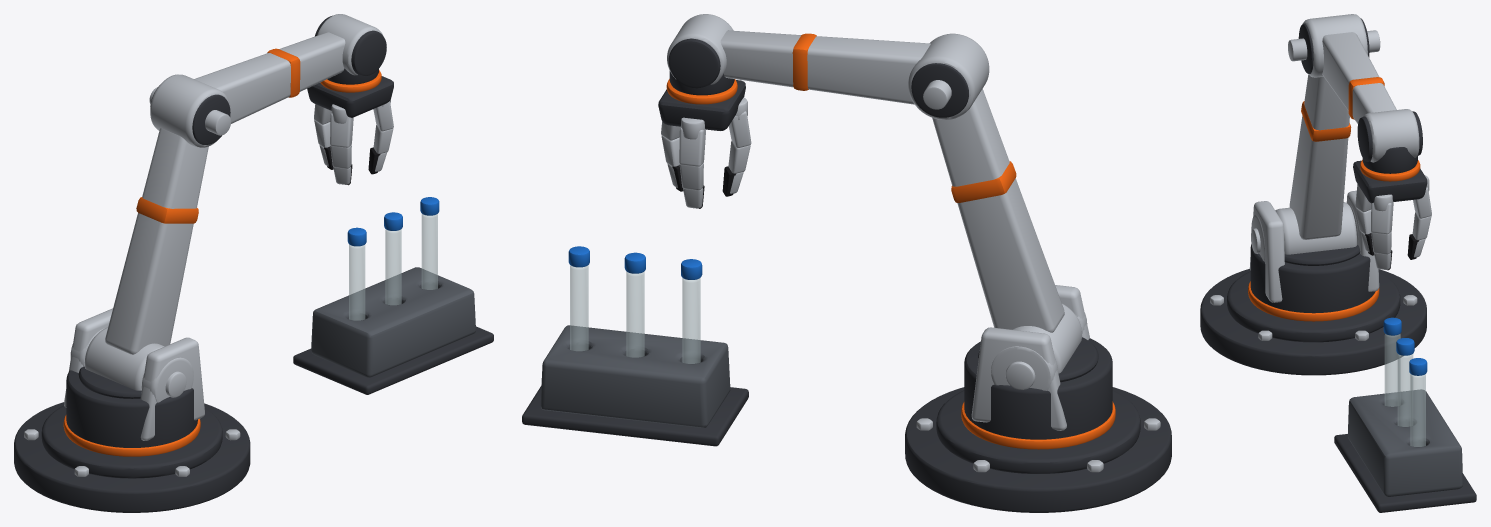
File: robot-arm.glb
3 views of the same model, side by side, from view 1: azimuth 30°, elevation 25°; view 2: azimuth 150°, elevation 25°; view 3: azimuth 270°, elevation 25° (orthographic). The views are drawn at different scales.
Visible parts, largest first — view 1: Arm_Upper_Link, Rack_Block, Waist_Turret, Base_Plate, Arm_Fore_Link, Shoulder_Yoke, Rack_Base, Gripper_Palm, Waist_Accent, Gripper_Finger_C, Wrist_Housing, TestTube_2 (+10 smaller); view 2: Arm_Upper_Link, Rack_Block, Waist_Turret, Base_Plate, Arm_Fore_Link, Shoulder_Yoke, Rack_Base, Gripper_Palm, Wrist_Housing, Elbow_Housing, Waist_Accent, Gripper_Finger_A (+9 smaller); view 3: Waist_Turret, Arm_Upper_Link, Rack_Block, Base_Plate, Arm_Fore_Link, Shoulder_Yoke, Rack_Base, Gripper_Palm, Waist_Accent, Gripper_Finger_B, TestTube_1, TestTube_3 (+11 smaller).
Boxes of the visible parts, x1=… form: Arm_Upper_Link: x1=84, y1=74, x2=230, y2=390; Rack_Block: x1=311, y1=267, x2=475, y2=377; Waist_Turret: x1=41, y1=366, x2=222, y2=478; Base_Plate: x1=14, y1=402, x2=250, y2=512; Arm_Fore_Link: x1=194, y1=14, x2=383, y2=123; Shoulder_Yoke: x1=64, y1=308, x2=204, y2=440; Rack_Base: x1=293, y1=326, x2=493, y2=394; Gripper_Palm: x1=307, y1=76, x2=393, y2=117; Waist_Accent: x1=63, y1=415, x2=200, y2=456; Gripper_Finger_C: x1=330, y1=113, x2=353, y2=184; Wrist_Housing: x1=315, y1=15, x2=386, y2=76; TestTube_2: x1=385, y1=229, x2=401, y2=305; Arm_Upper_Link: x1=908, y1=33, x2=1081, y2=373; Rack_Block: x1=540, y1=325, x2=730, y2=427; Waist_Turret: x1=936, y1=337, x2=1140, y2=473; Base_Plate: x1=905, y1=387, x2=1171, y2=512; Arm_Fore_Link: x1=667, y1=14, x2=930, y2=104; Shoulder_Yoke: x1=971, y1=285, x2=1089, y2=430; Rack_Base: x1=522, y1=386, x2=748, y2=446; Gripper_Palm: x1=658, y1=80, x2=745, y2=130; Wrist_Housing: x1=668, y1=38, x2=720, y2=88; Elbow_Housing: x1=911, y1=63, x2=968, y2=117; Waist_Accent: x1=961, y1=401, x2=1115, y2=449; Gripper_Finger_A: x1=679, y1=127, x2=705, y2=208; Waist_Turret: x1=1227, y1=244, x2=1400, y2=342; Arm_Upper_Link: x1=1275, y1=14, x2=1367, y2=254; Rack_Block: x1=1347, y1=389, x2=1462, y2=496; Base_Plate: x1=1200, y1=268, x2=1426, y2=375; Arm_Fore_Link: x1=1322, y1=32, x2=1419, y2=162; Shoulder_Yoke: x1=1249, y1=190, x2=1379, y2=302; Rack_Base: x1=1334, y1=434, x2=1476, y2=512; Gripper_Palm: x1=1353, y1=160, x2=1427, y2=203; Waist_Accent: x1=1248, y1=281, x2=1379, y2=321; Gripper_Finger_B: x1=1371, y1=201, x2=1393, y2=269; TestTube_1: x1=1384, y1=334, x2=1400, y2=406; TestTube_3: x1=1410, y1=374, x2=1425, y2=446.
Size of the model in its own units: 0.5599 by 0.3823 by 0.2803.
